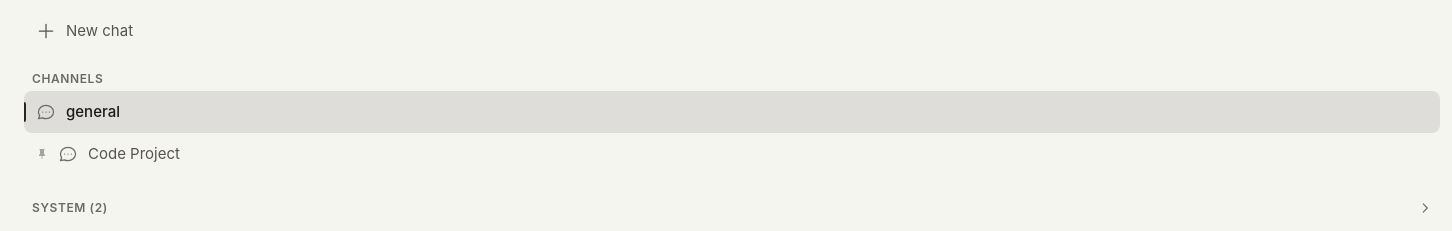
Test: context menu › closes context menu on Escape
Right-click the button "general" at (93, 111), box top-left (24, 90), bottom-right (1440, 133)
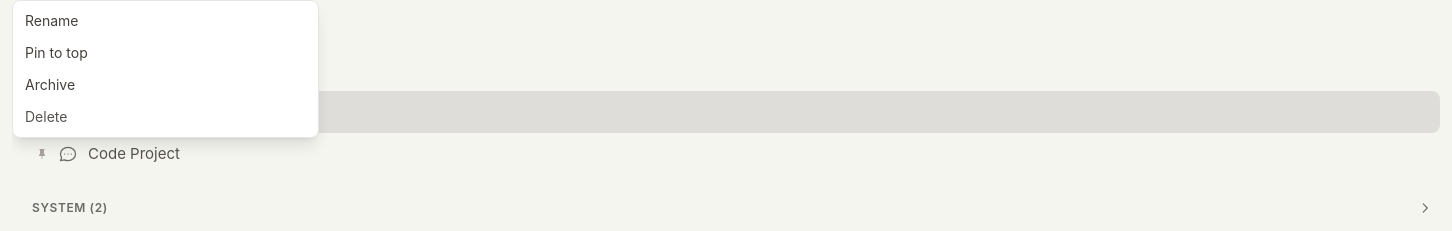
expect the button "Rename" is shown: met, box top-left (13, 5), bottom-right (318, 37)
Press Escape
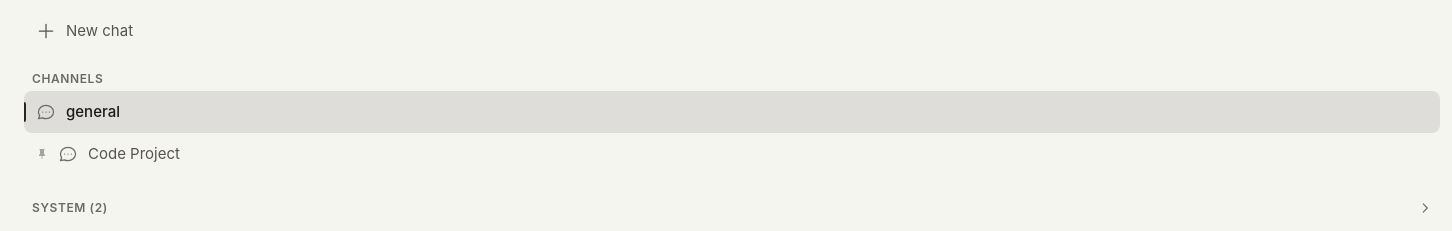
expect the button "Rename" is gone: met
